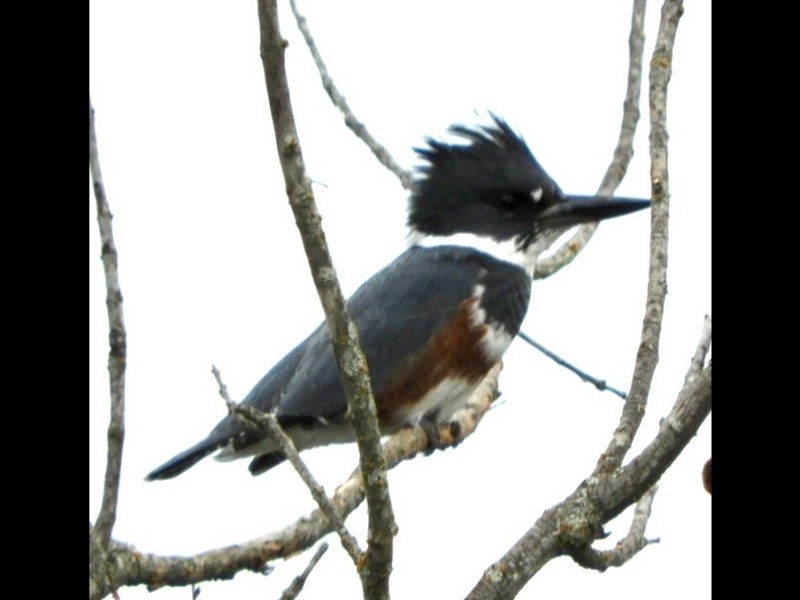kingfisher: (139, 107, 671, 488)
